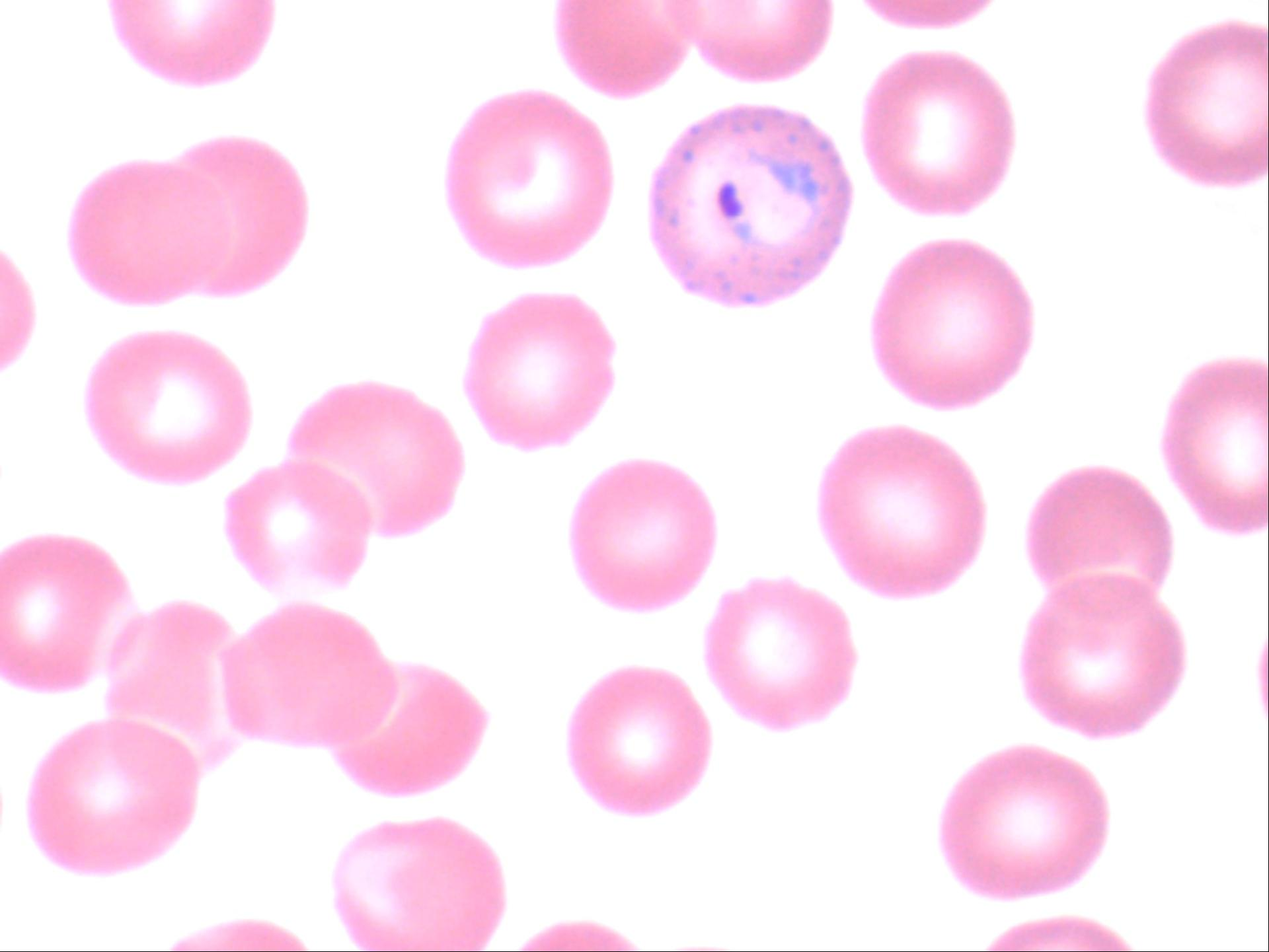Infected: (646, 101, 853, 304)
Uninfected: (441, 88, 617, 266), (816, 421, 985, 598), (871, 232, 1034, 413), (279, 380, 463, 536), (25, 719, 202, 881), (937, 744, 1110, 899), (1023, 575, 1182, 741), (83, 331, 249, 485), (220, 602, 397, 746), (864, 52, 1018, 216), (106, 600, 252, 772), (704, 572, 858, 734), (461, 291, 618, 447), (66, 159, 233, 302), (167, 132, 309, 299), (332, 820, 506, 952), (567, 664, 713, 817), (0, 531, 137, 693), (1029, 463, 1170, 619), (332, 661, 491, 799), (572, 459, 714, 611), (1142, 22, 1269, 189), (225, 461, 375, 598), (1158, 357, 1269, 534), (104, 0, 276, 89), (550, 0, 696, 99), (679, 0, 832, 86)
